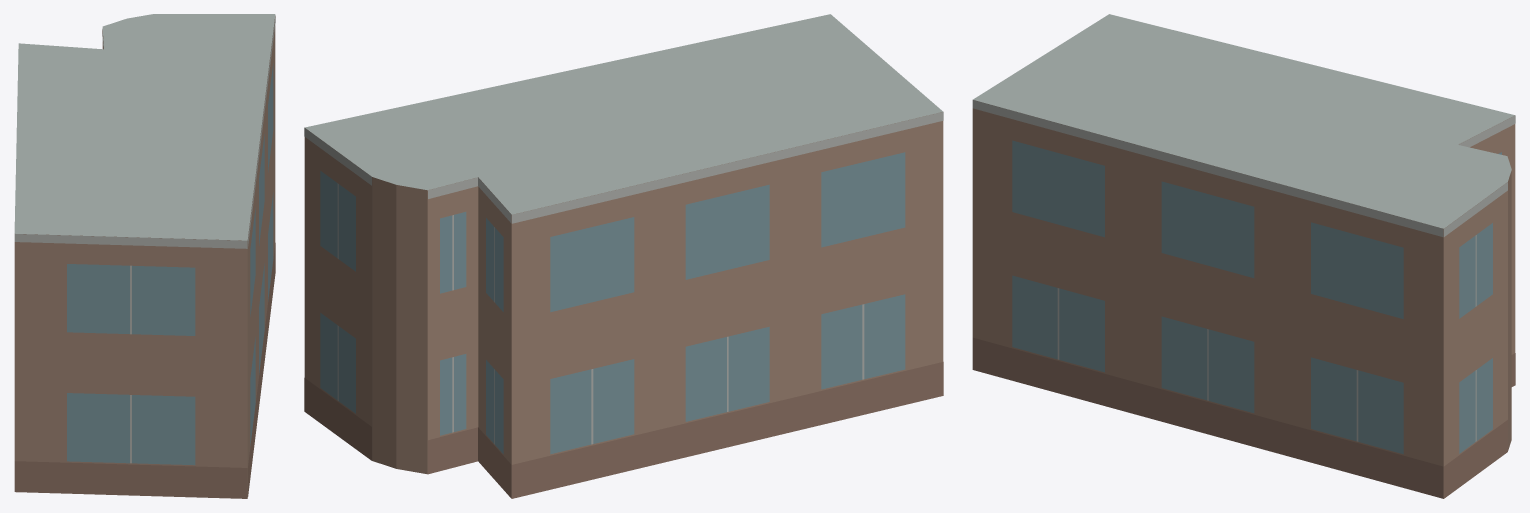
The model's file is survey-upis-32920439.glb.
3 views of the same model, side by side, from view 1: azimuth 30°, elevation 25°; view 2: azimuth 150°, elevation 25°; view 3: azimuth 270°, elevation 25° (orthographic). The views are drawn at different scales.
Visible parts, largest first — view 1: survey-upis-32920439.tmp; view 2: survey-upis-32920439.tmp; view 3: survey-upis-32920439.tmp.
Boxes of the visible parts, x1,y1,x2,y2 form: survey-upis-32920439.tmp: (14, 14, 275, 498); survey-upis-32920439.tmp: (304, 14, 943, 498); survey-upis-32920439.tmp: (972, 14, 1515, 498).
Size of the model in its own units: 13.05 by 7.65 by 13.94.
